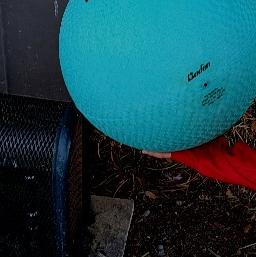algae: (51, 0, 256, 149)
